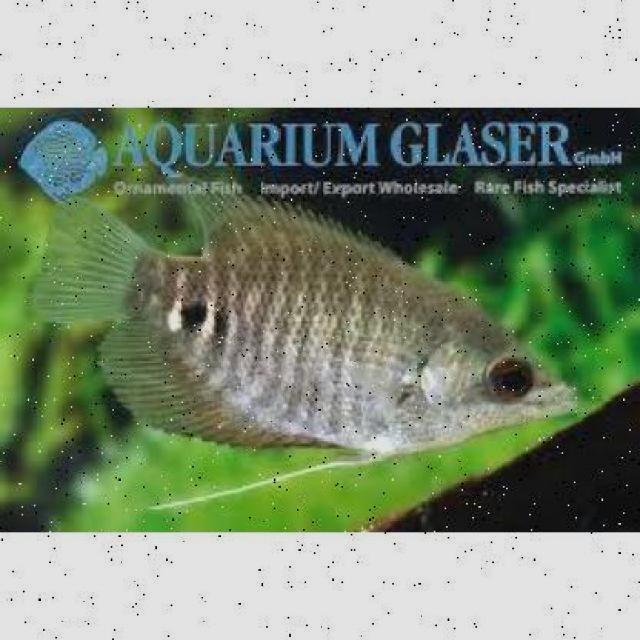gurame: (49, 189, 582, 460)
